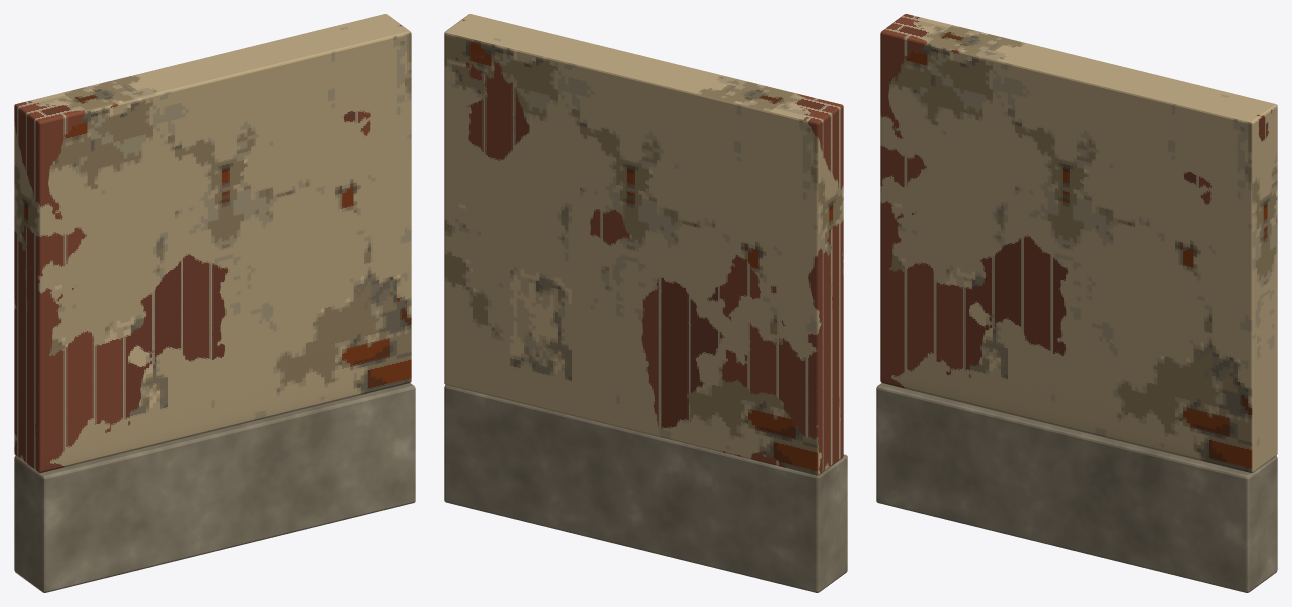
The model's file is room_wall_siracusa.glb.
3 views of the same model, side by side, from view 1: azimuth 30°, elevation 25°; view 2: azimuth 150°, elevation 25°; view 3: azimuth 330°, elevation 25° (orthographic).
Parts seen in each view (by area): view 1: room_wall_siracusa; view 2: room_wall_siracusa; view 3: room_wall_siracusa.
Boxes of the visible parts, x1,y1,x2,y2 form: room_wall_siracusa: (14, 14, 415, 592); room_wall_siracusa: (444, 14, 847, 592); room_wall_siracusa: (876, 14, 1277, 592).
Size of the model in its own units: 2 by 2.4 by 0.28.
2 materials, 2 textured.
